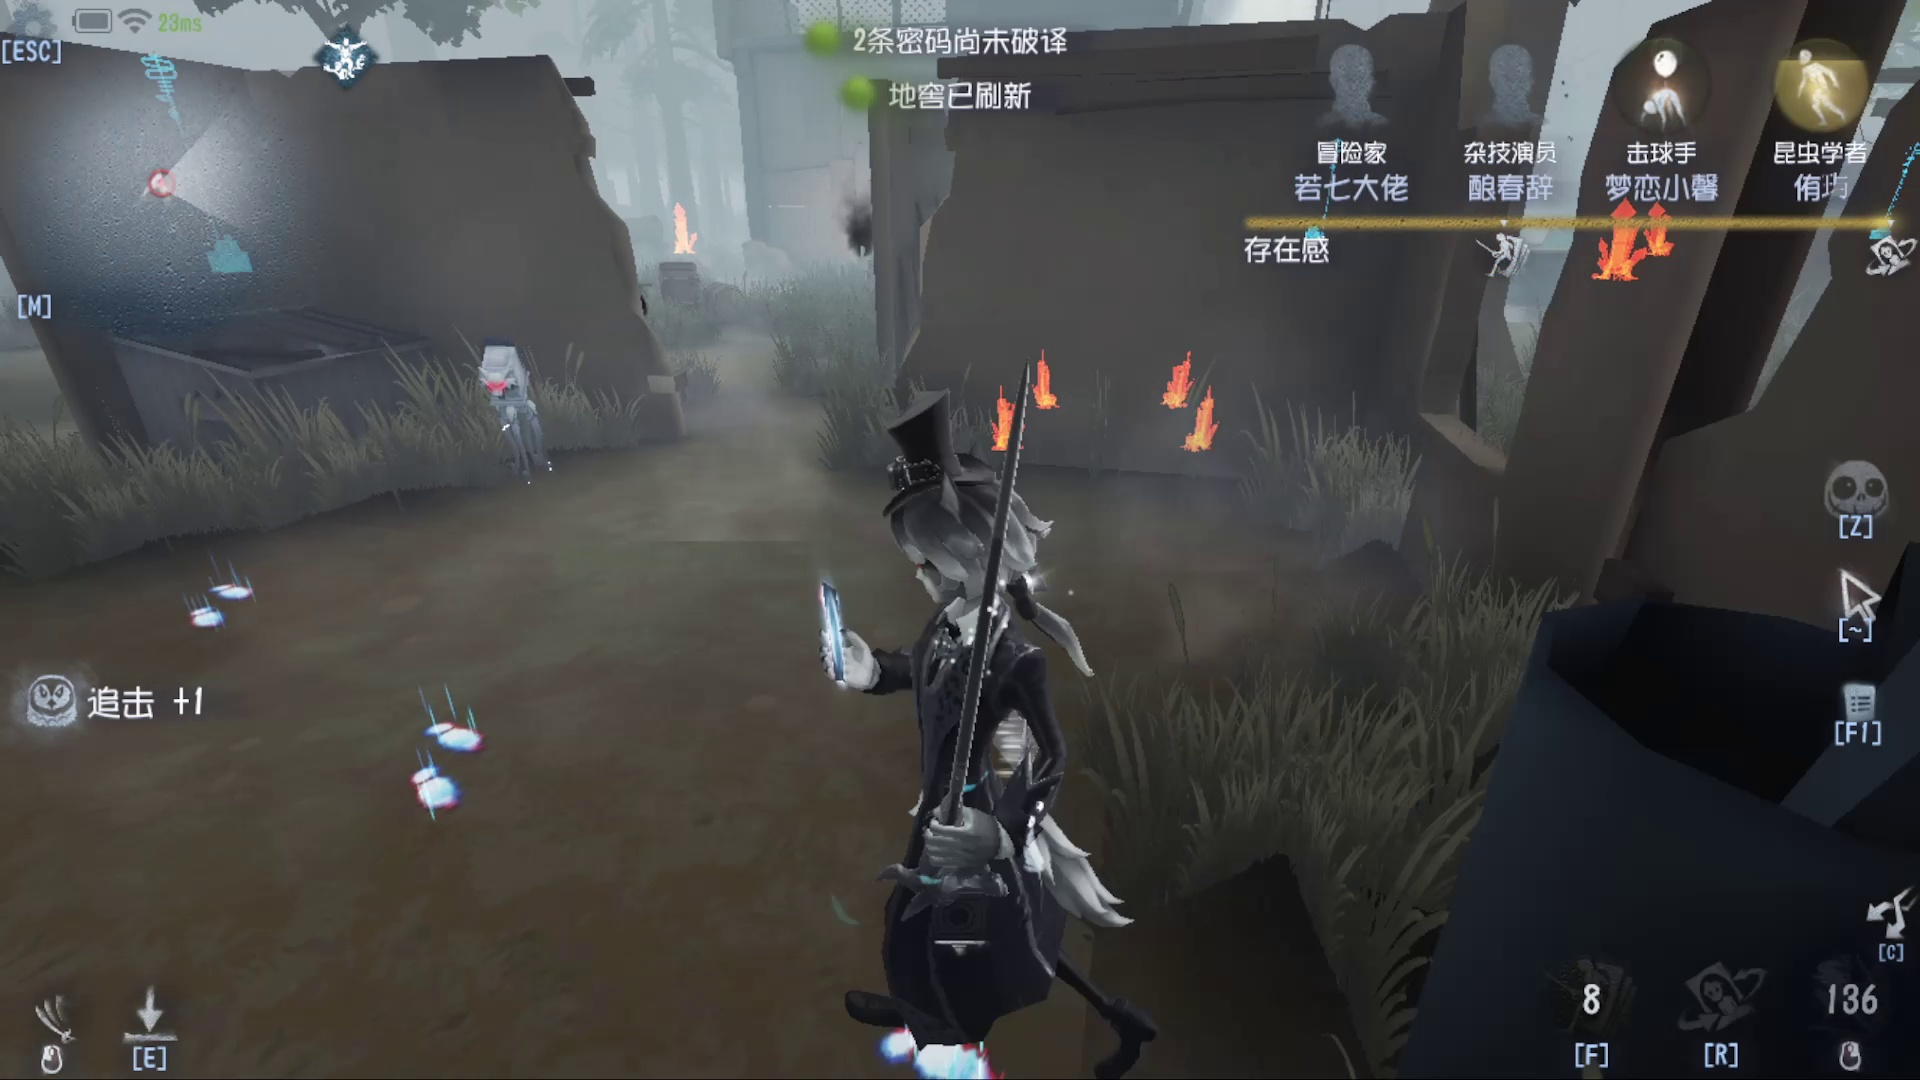密码机: (127, 44, 285, 291)
狂欢之椅: (1571, 164, 1638, 297), (658, 191, 702, 272)
